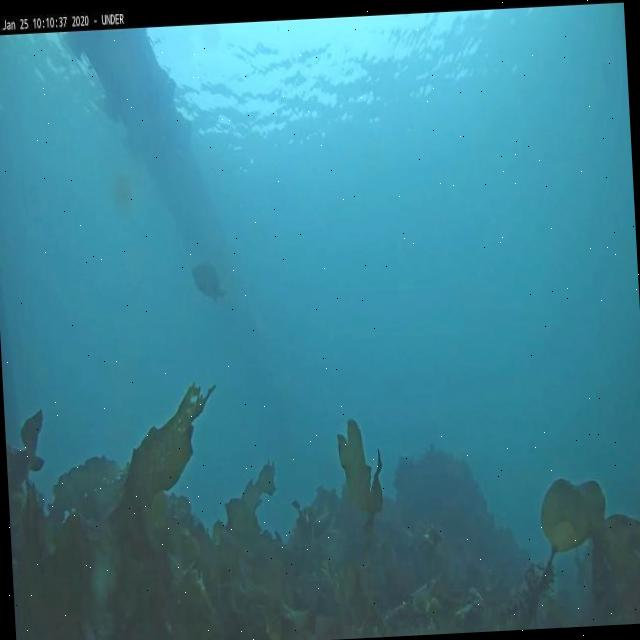fish: (189, 264, 224, 301)
